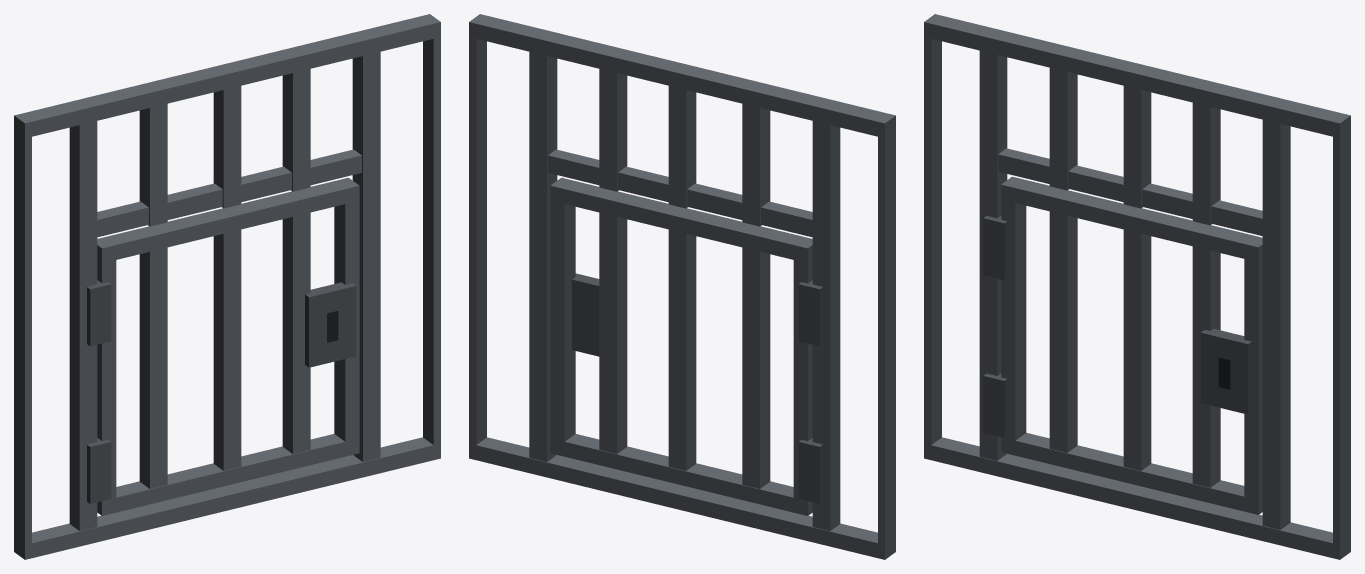
Rendered from SD_Env_PrisonCell_DoorFrame_01.fbx.
3 views of the same model, side by side, from view 1: azimuth 30°, elevation 25°; view 2: azimuth 150°, elevation 25°; view 3: azimuth 330°, elevation 25° (orthographic).
Parts seen in each view (by area): view 1: SD_Env_PrisonCell_DoorFrame_01, SD_Env_PrisonCell_Door_01; view 2: SD_Env_PrisonCell_DoorFrame_01, SD_Env_PrisonCell_Door_01; view 3: SD_Env_PrisonCell_DoorFrame_01, SD_Env_PrisonCell_Door_01.
Boxes of the visible parts, <box> form: SD_Env_PrisonCell_DoorFrame_01: <box>14,14,440,559</box>; SD_Env_PrisonCell_Door_01: <box>97,177,359,515</box>; SD_Env_PrisonCell_DoorFrame_01: <box>469,14,895,559</box>; SD_Env_PrisonCell_Door_01: <box>550,177,812,515</box>; SD_Env_PrisonCell_DoorFrame_01: <box>924,14,1350,559</box>; SD_Env_PrisonCell_Door_01: <box>1001,176,1262,514</box>.
Bounding box in the file's own units: 5 × 5.01 × 0.3659.
